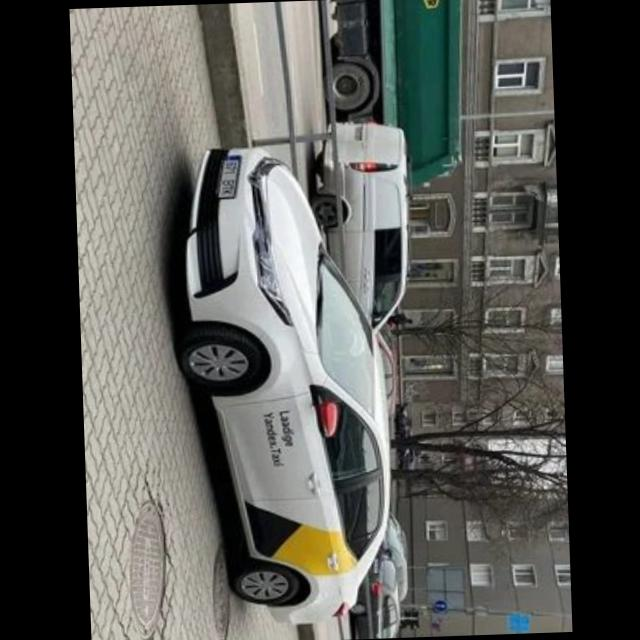taxi: (170, 141, 399, 629)
